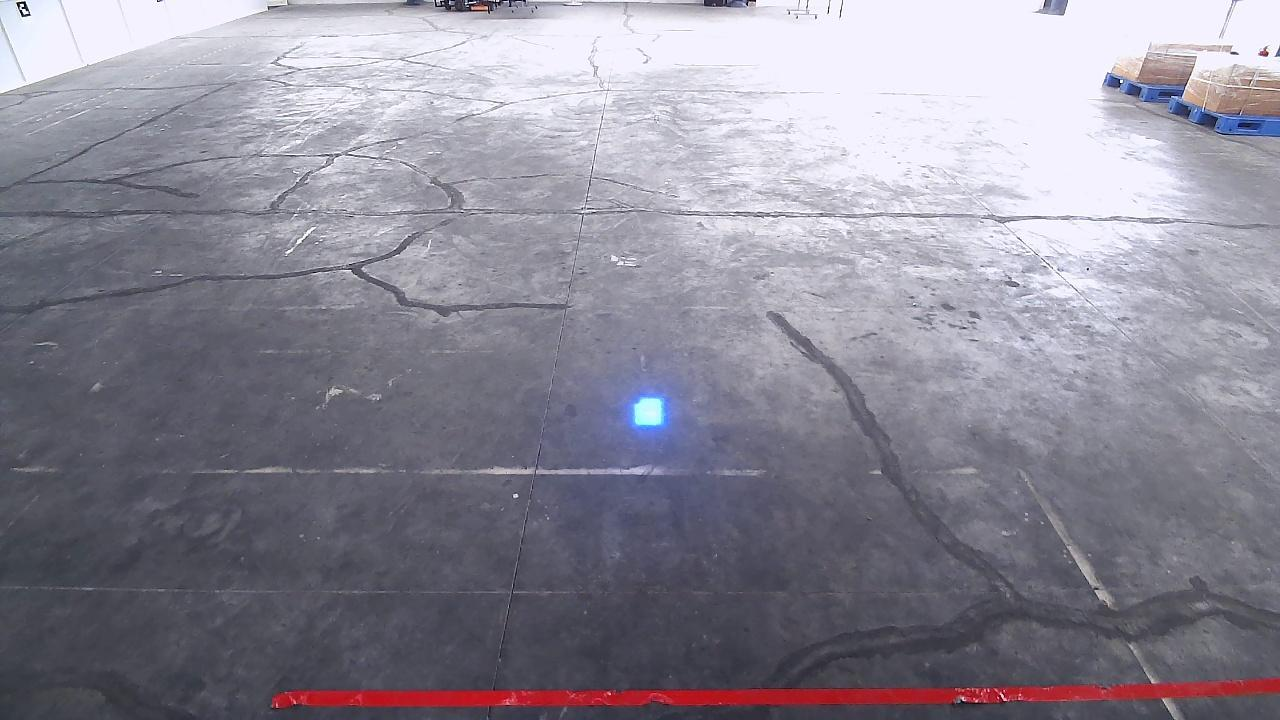red_line: (279, 675, 1280, 707)
